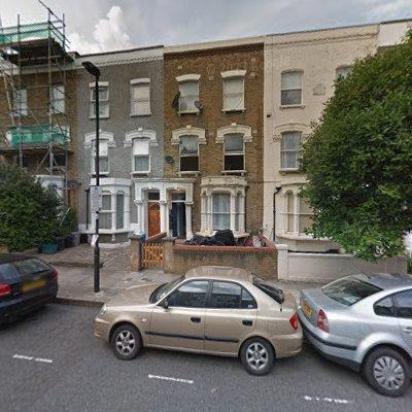stationary-car-onstreet: (91, 263, 301, 379), (288, 268, 410, 398), (0, 250, 58, 332)
